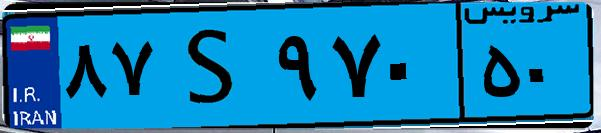0: (385, 28, 445, 110), (525, 38, 570, 115)
5: (475, 38, 525, 113)
7: (330, 28, 385, 110), (110, 28, 158, 98)
8: (57, 26, 110, 100)
9: (270, 28, 330, 110)
S: (158, 12, 270, 120)
